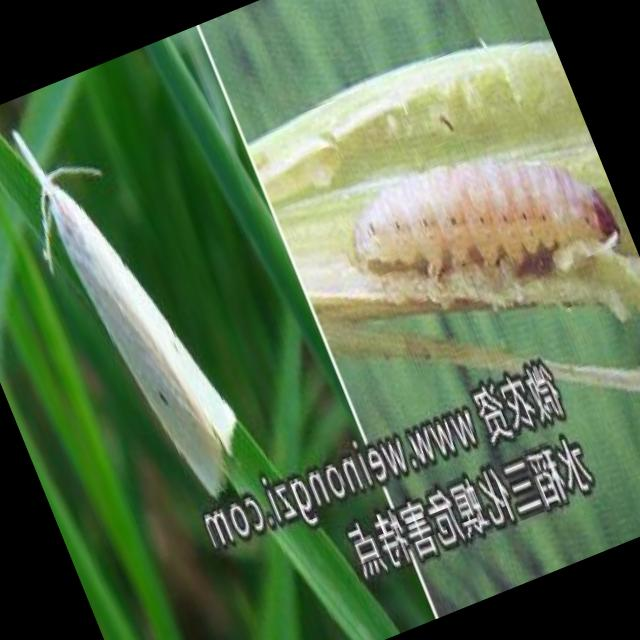stem-borer: (9, 123, 240, 500)
